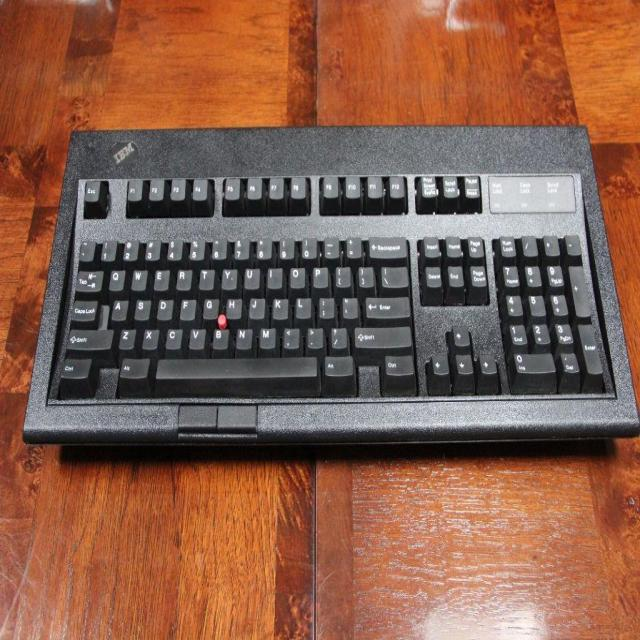keyboard: (41, 167, 620, 407)
